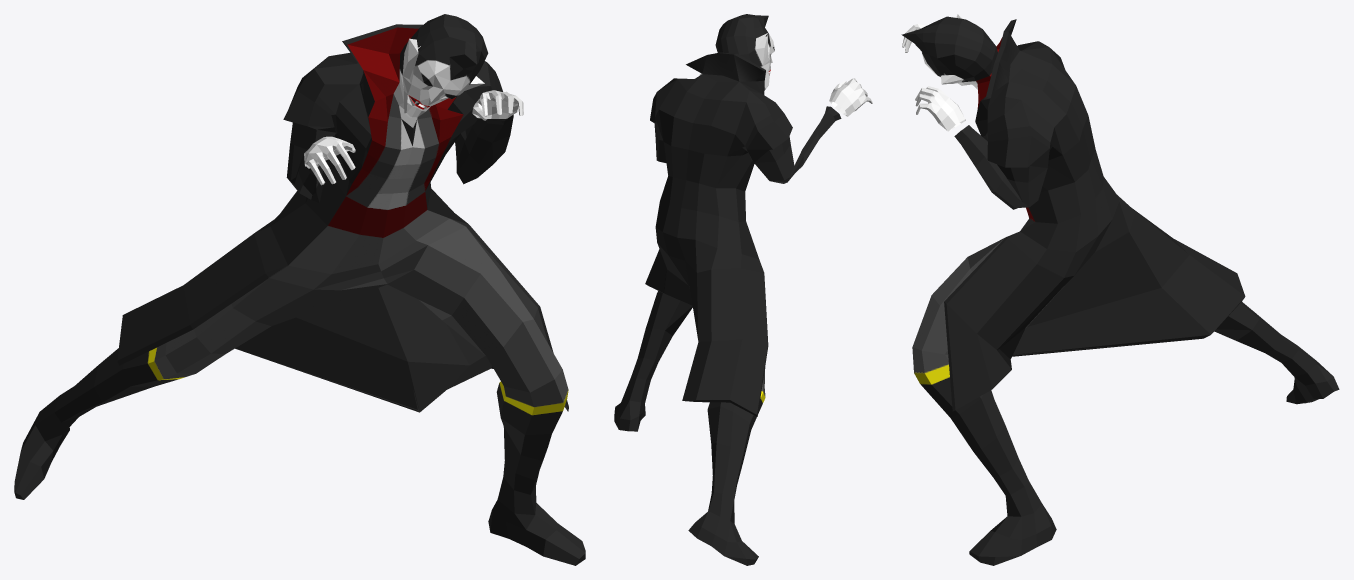
The model's file is VampireAttack(32).obj.
3 renders of one model, left to right at view 1: azimuth 30°, elevation 25°; view 2: azimuth 150°, elevation 25°; view 3: azimuth 270°, elevation 25°, orthographic. The views are drawn at different scales.
Visible parts, largest first — view 1: Plane002; view 2: Plane002; view 3: Plane002.
Boxes of the visible parts, x1,y1,x2,y2 form: Plane002: [14, 14, 585, 565]; Plane002: [614, 14, 872, 565]; Plane002: [901, 14, 1339, 565].
Size of the model in its own units: 73.12 by 107 by 87.55.
